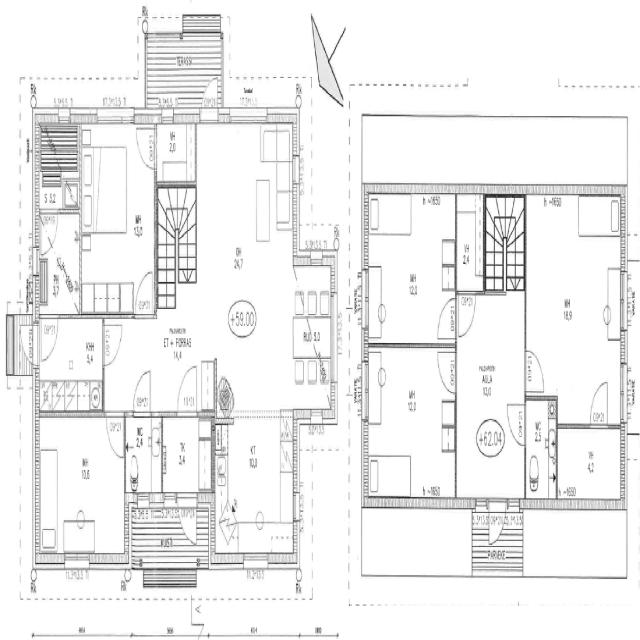door: (175, 362, 199, 419), (133, 266, 156, 321), (523, 343, 547, 395), (588, 374, 610, 430), (176, 494, 198, 550), (130, 366, 154, 416), (102, 317, 124, 369), (38, 313, 60, 365), (435, 291, 456, 345), (436, 345, 458, 396), (506, 399, 528, 448), (135, 124, 157, 172), (487, 497, 507, 548), (105, 410, 125, 460), (200, 74, 220, 124), (456, 290, 476, 340), (473, 500, 490, 558), (40, 211, 59, 254), (18, 323, 36, 365), (158, 95, 176, 126), (507, 497, 521, 529)
window: (227, 108, 269, 135), (94, 105, 136, 131), (617, 333, 626, 422), (359, 359, 370, 424), (242, 549, 270, 574), (64, 550, 90, 576), (617, 265, 626, 337), (361, 268, 370, 333)
zone: (188, 122, 296, 408), (524, 192, 622, 418), (80, 121, 157, 317), (457, 290, 526, 500), (363, 196, 457, 347), (366, 345, 456, 501), (36, 416, 126, 563), (214, 421, 295, 562), (292, 259, 334, 419), (37, 316, 105, 413), (556, 425, 622, 506), (159, 413, 213, 505), (38, 210, 82, 315), (39, 122, 80, 208), (525, 396, 557, 503), (621, 256, 640, 436), (126, 409, 160, 504), (153, 121, 197, 189), (456, 192, 484, 293)
